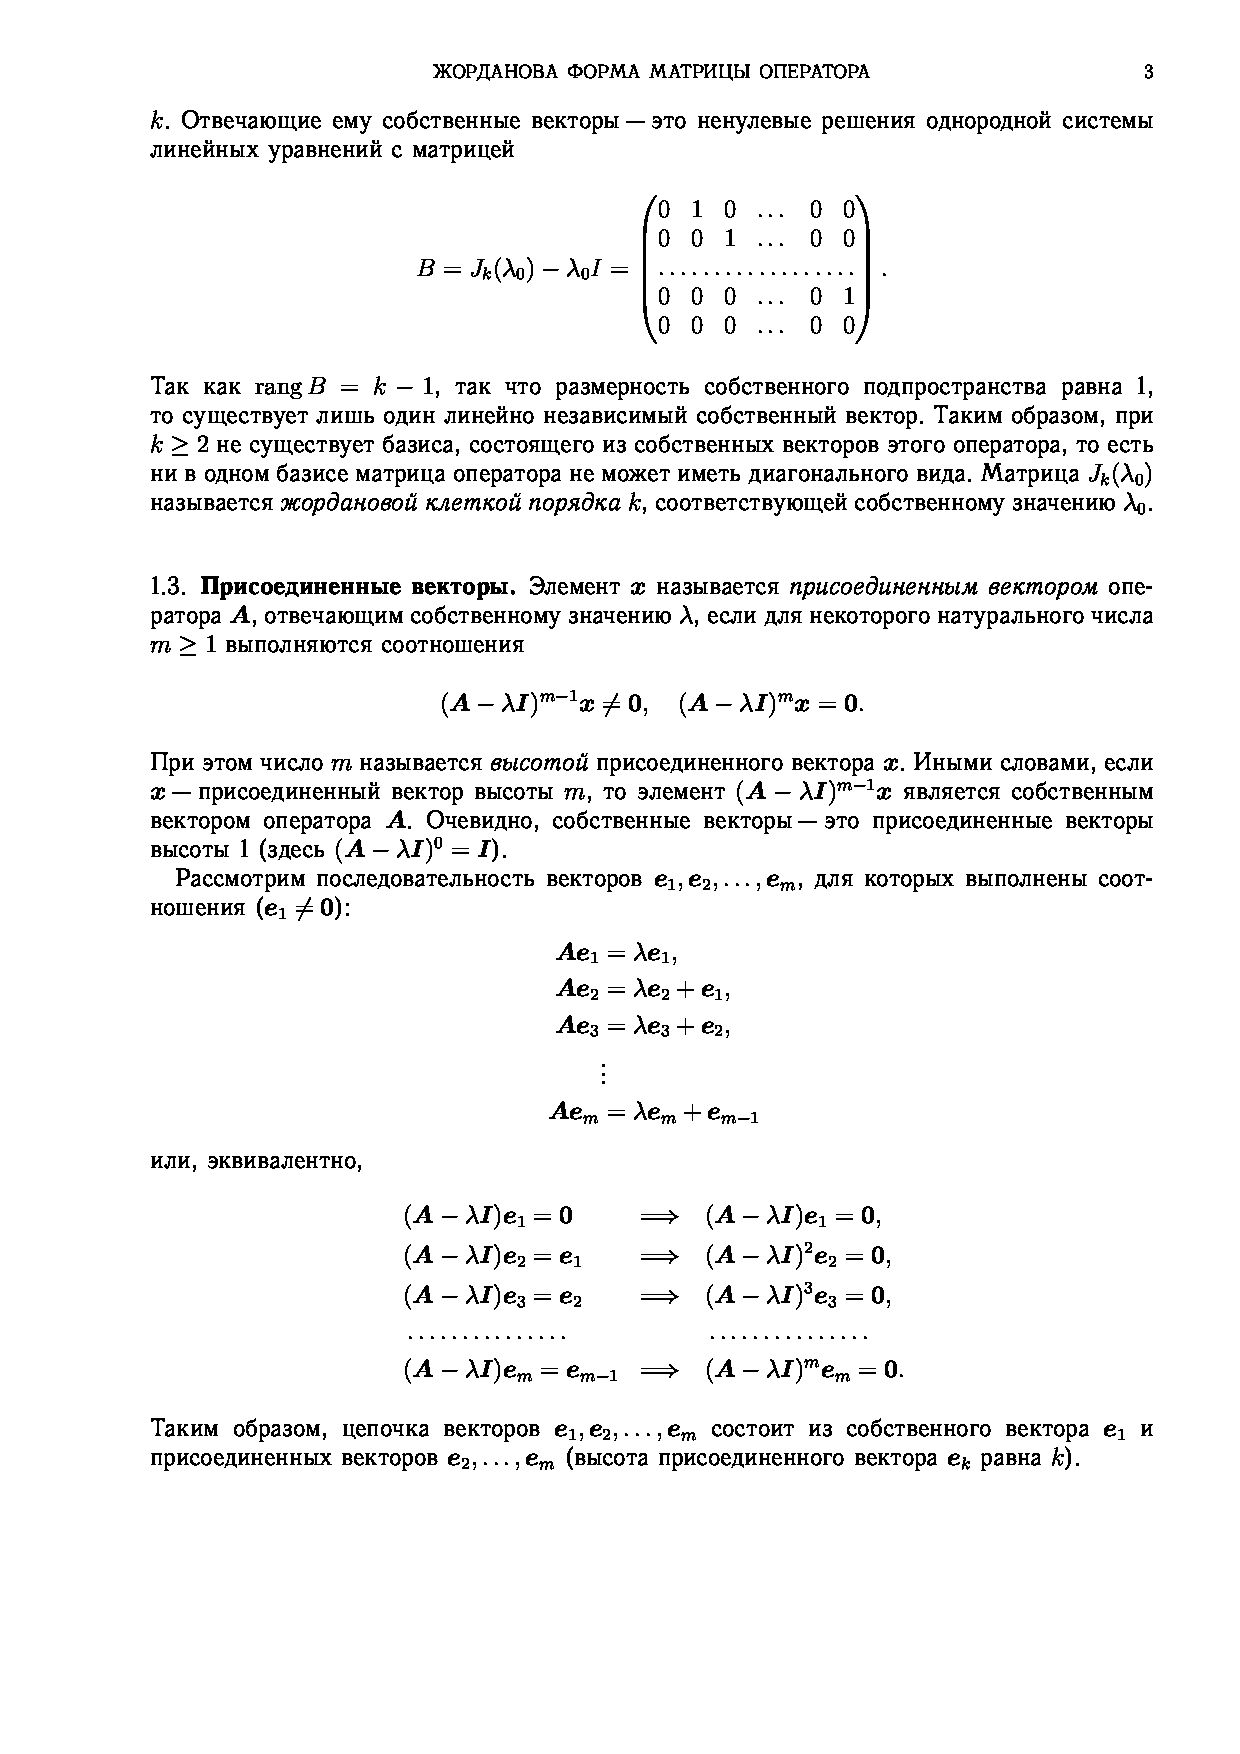pMatrix: (640, 193, 871, 349)
